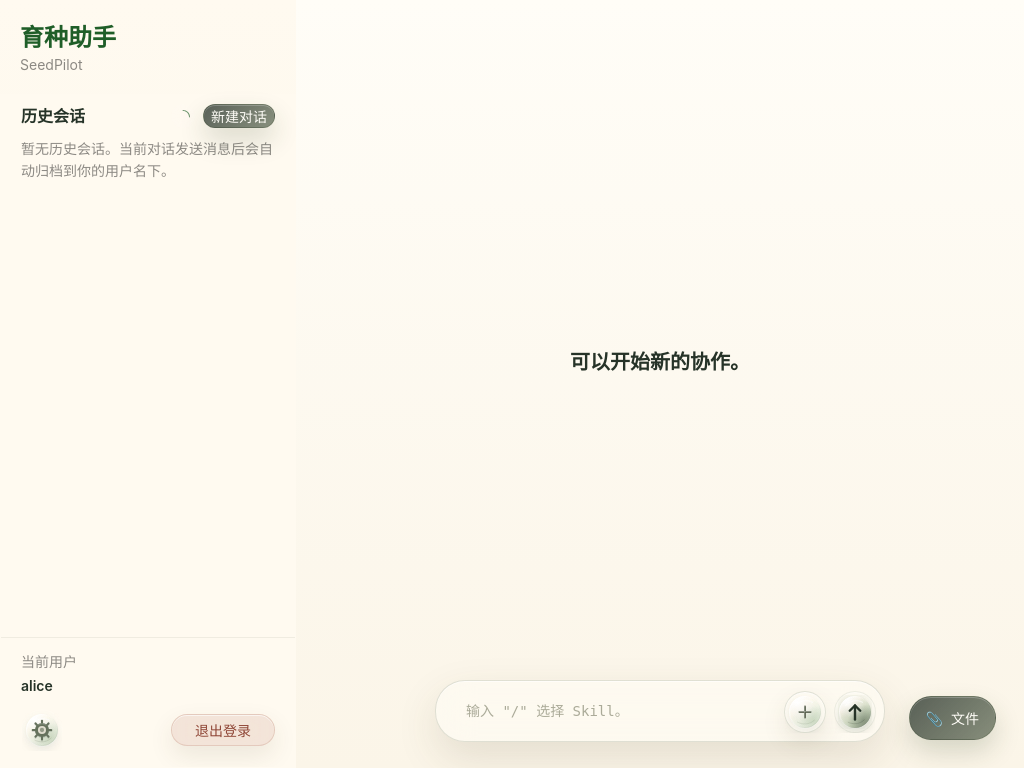
Test: App › composer safe autofocus does not focus while cancellation is still pending
Expected: the heading "育种助手" is shown, [20,23,116,52]
Type "取消中不聚焦" into the text box named "请输入问题" at (612, 711), box [448,689,776,733]
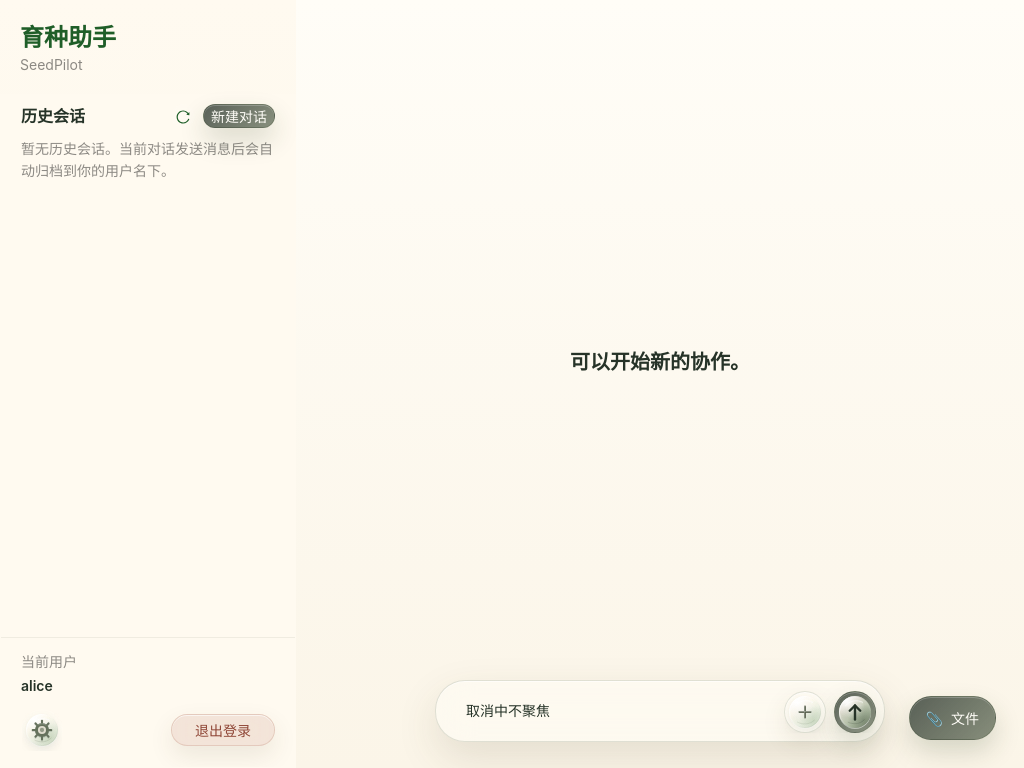
Click the button named "发送" at (855, 712), box [834,691,876,733]
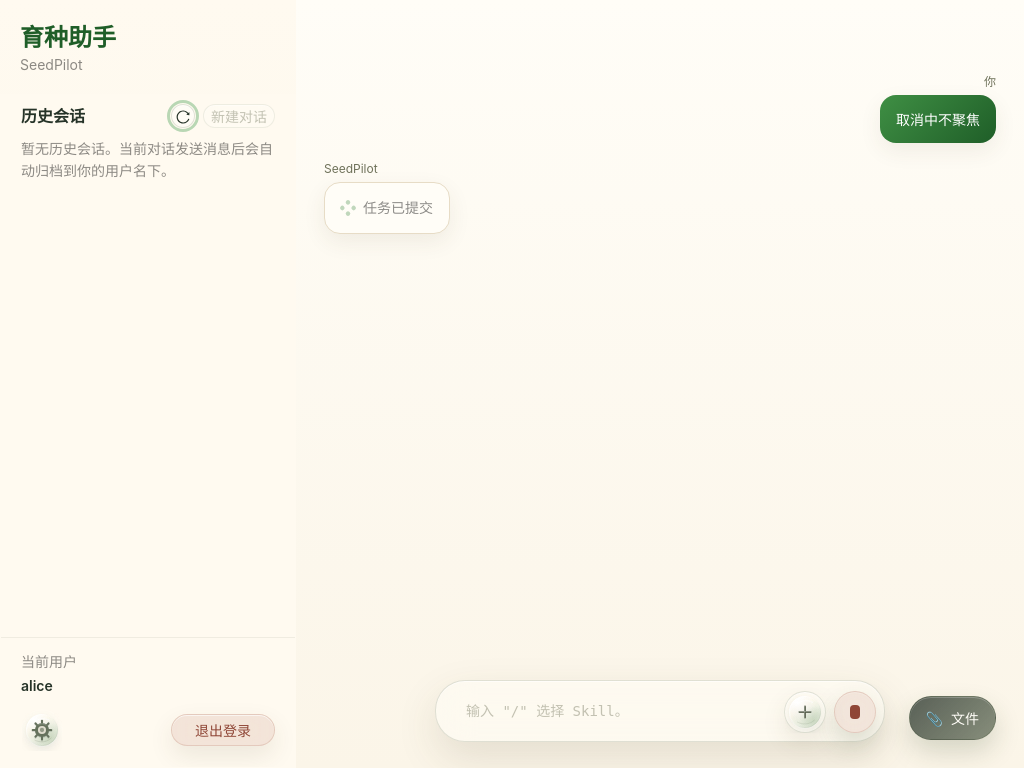
Click the button named "停止" at (855, 712), box [834,691,876,733]
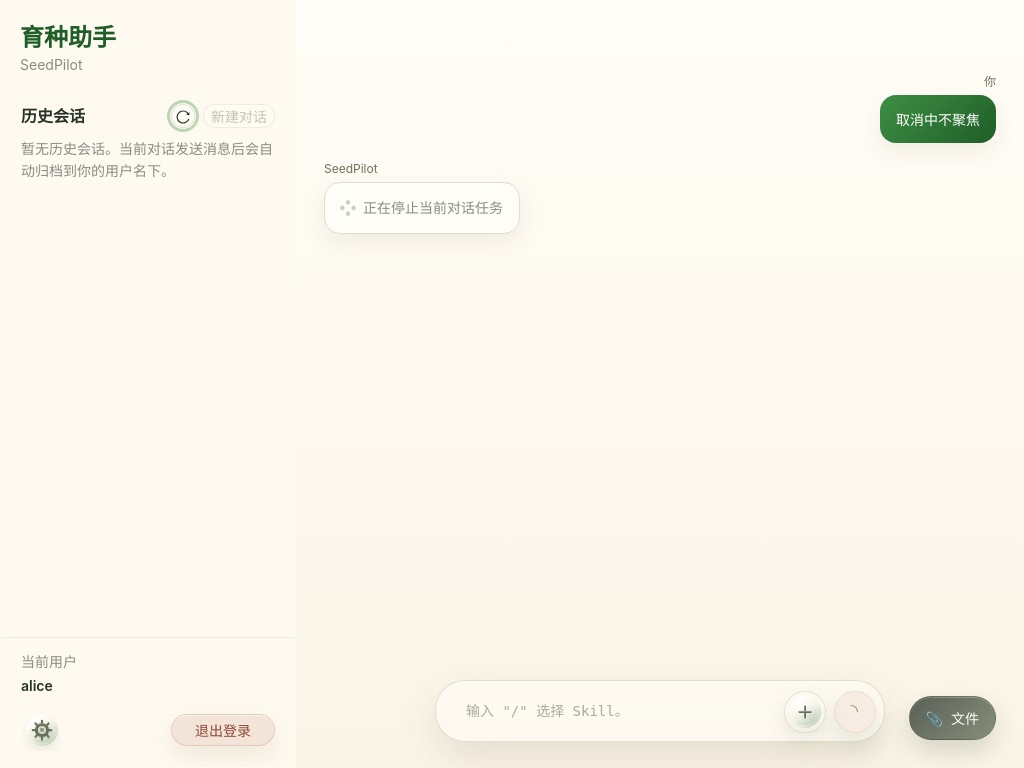
Expected: the text "正在停止当前对话任务" is shown, [363,197,503,219]
